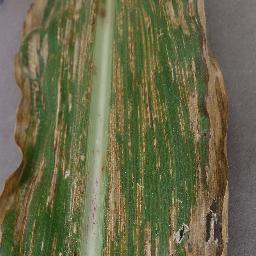Gray_Leaf_Spot: (0, 0, 233, 256)
